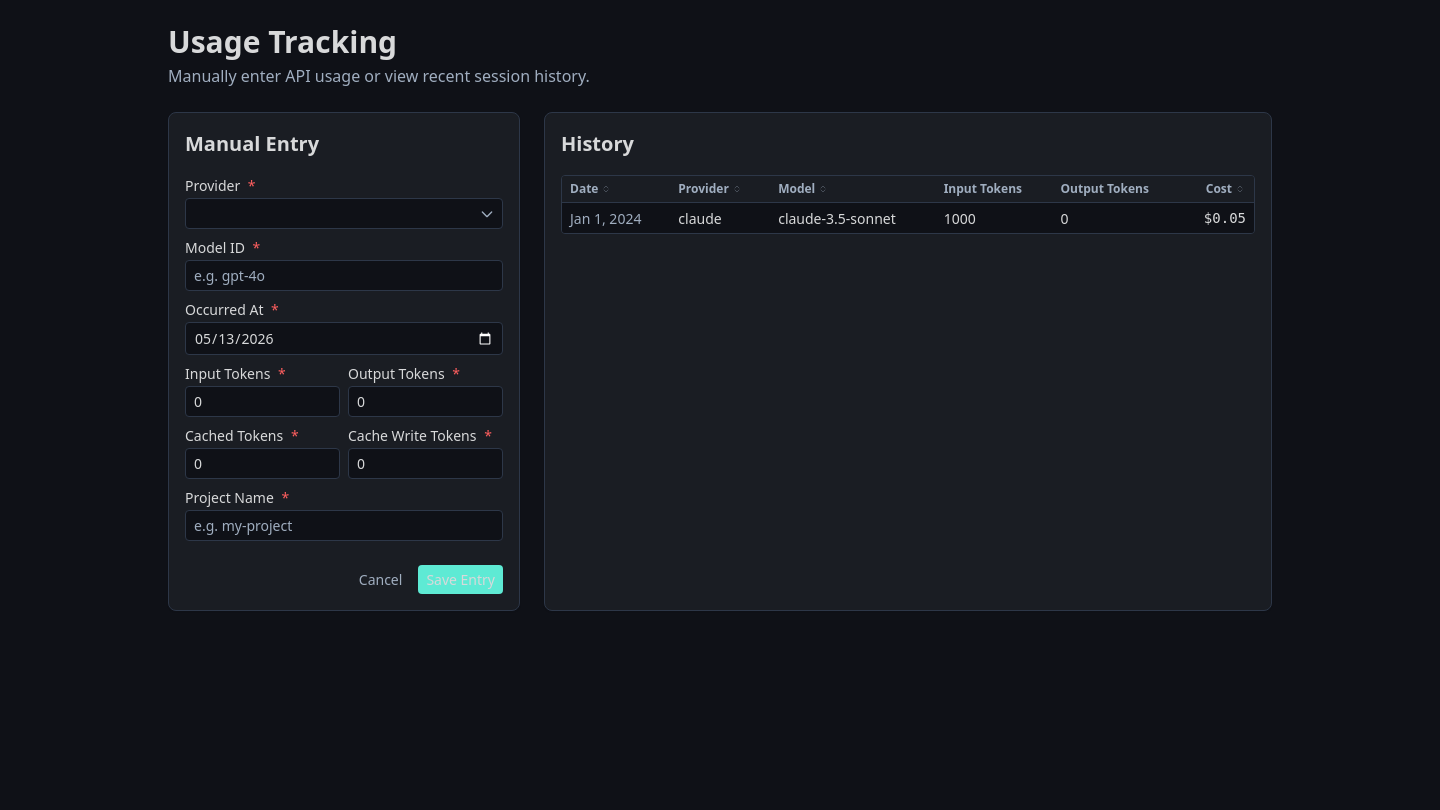
Test: Usage Page › shows validation errors for negative token values
Replace the text in the number field labelled "Input Tokens *" with "-10" at (262, 402), box [185,386,340,417]
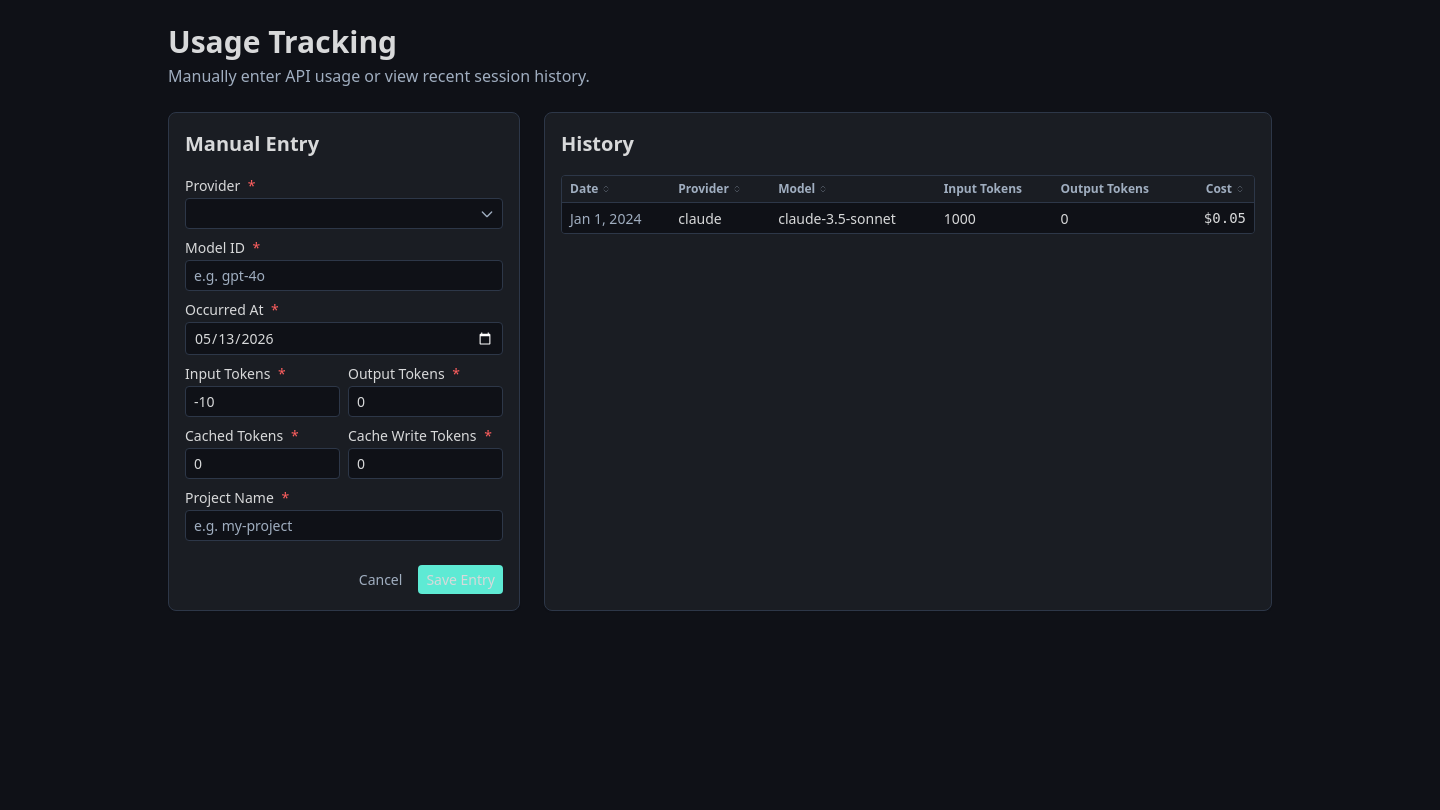
Click the button "Save Entry".
click(461, 580)  # box [418,565,503,594]
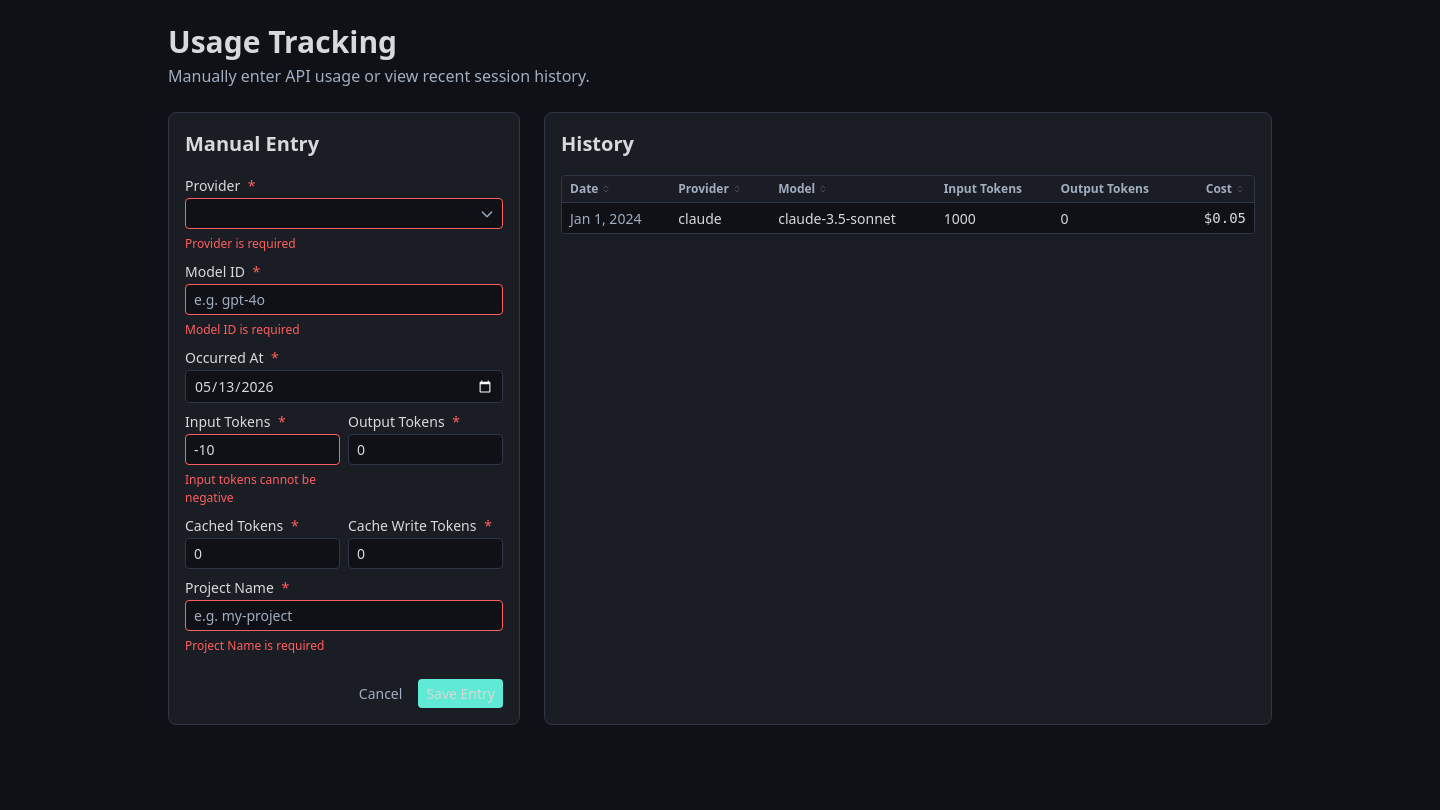
Check: the text "Input tokens cannot be negative" is shown, box [185,471,316,506]
